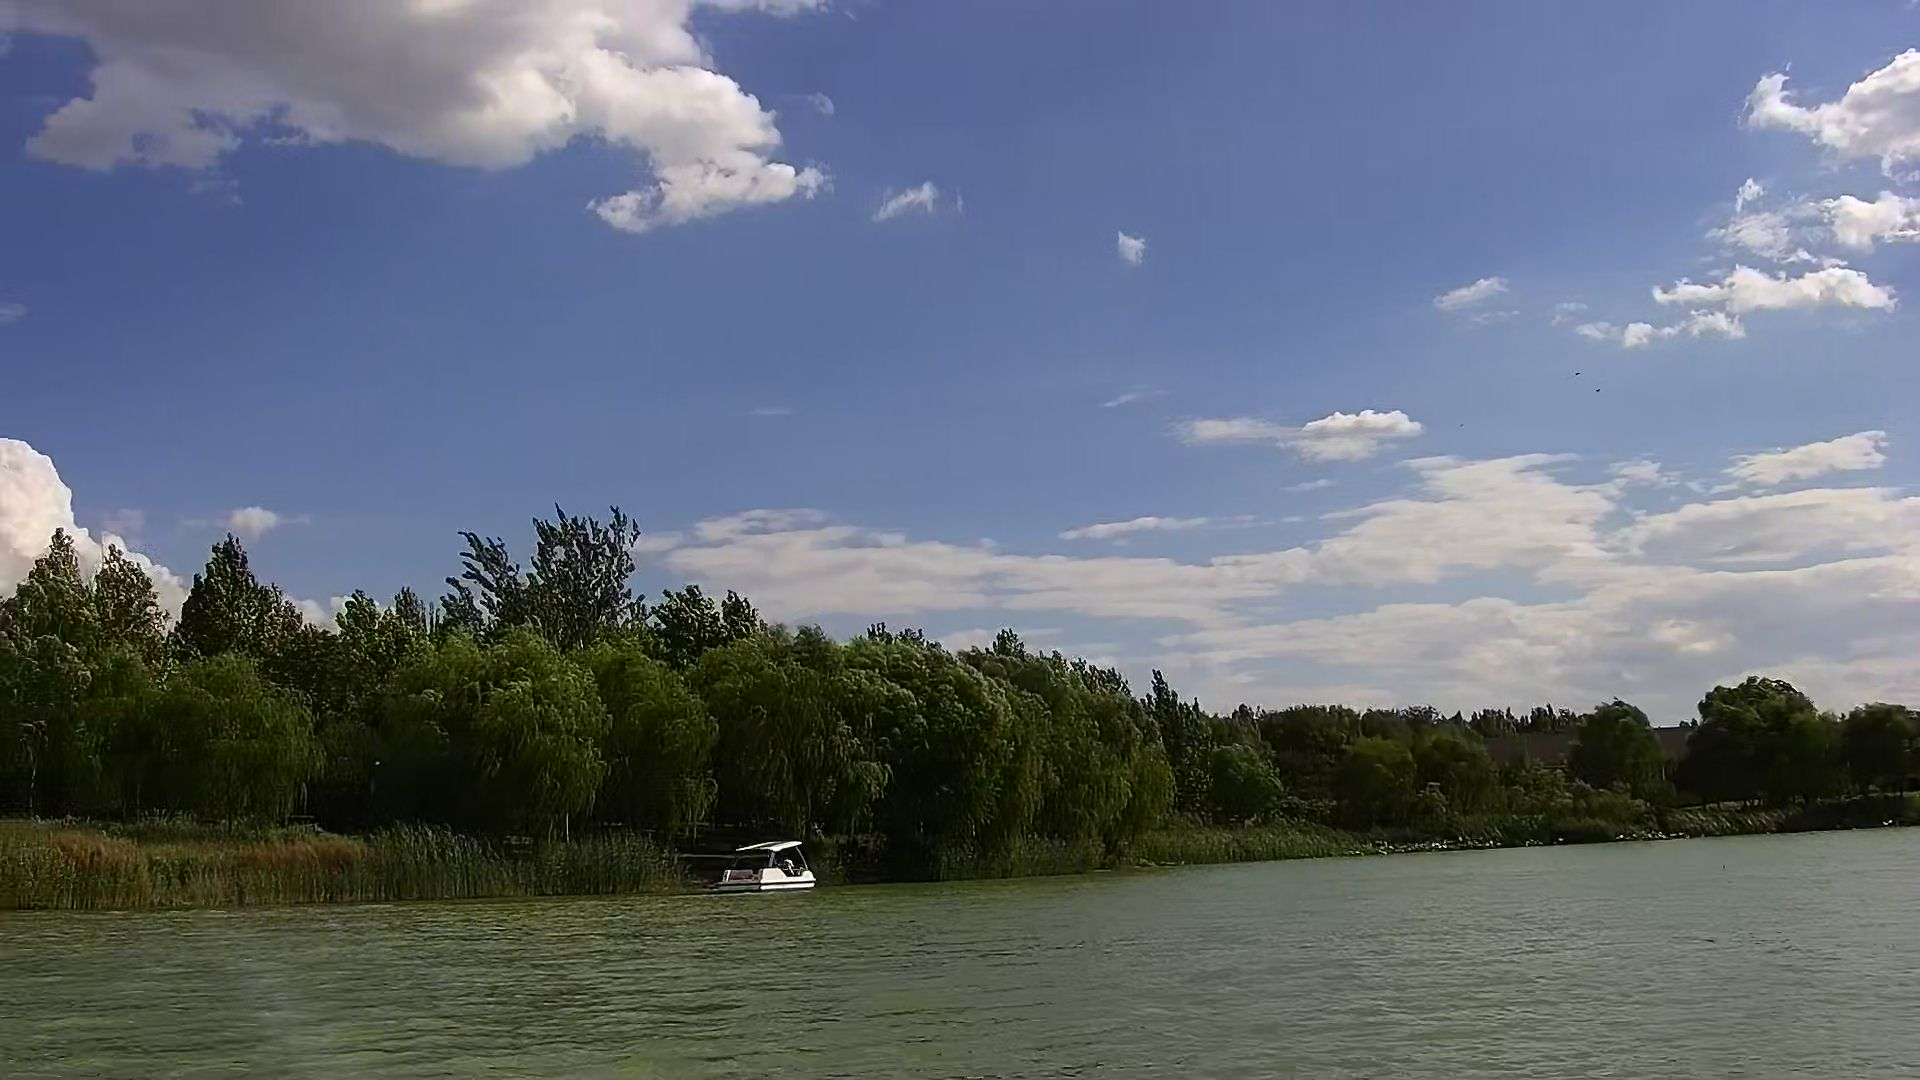boat: (717, 835, 819, 893)
